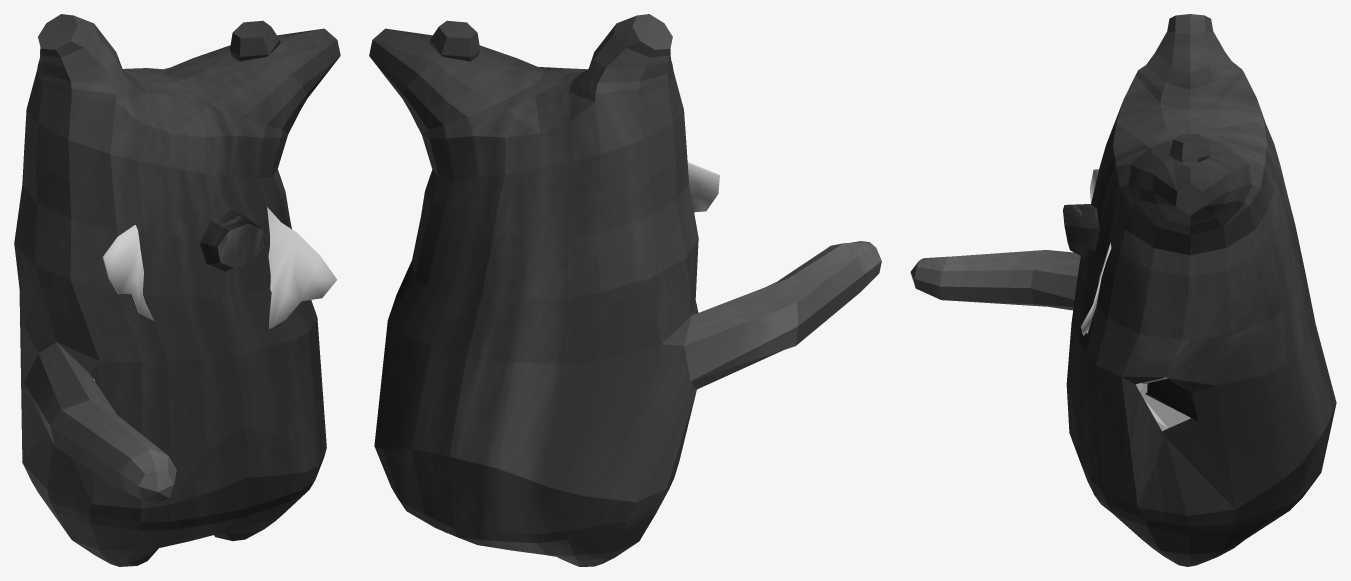
File: frame_0011.obj
3 views of the same model, side by side, from view 1: azimuth 30°, elevation 25°; view 2: azimuth 150°, elevation 25°; view 3: azimuth 270°, elevation 25° (orthographic). The views are drawn at different scales.
Visible parts, largest first — view 1: korok, leaf, nose; view 2: korok, leaf; view 3: korok, nose, leaf.
Part boxes in pixels (<box>): korok: <box>14,14,340,566</box>; leaf: <box>102,207,337,328</box>; nose: <box>199,208,264,271</box>; korok: <box>369,14,881,566</box>; leaf: <box>687,162,719,212</box>; korok: <box>910,14,1336,566</box>; nose: <box>1063,204,1099,259</box>; leaf: <box>1080,169,1111,335</box>.
Bounding box in the file's own units: 1.52 × 2.3 × 1.84.
